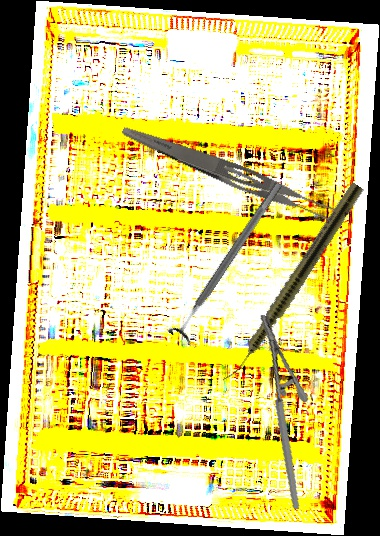Dressing Forceps: (117, 121, 347, 230)
Fixation Ring: (166, 176, 292, 347)
Handpiece: (219, 179, 366, 390)
Needle Holder: (227, 314, 332, 510)
